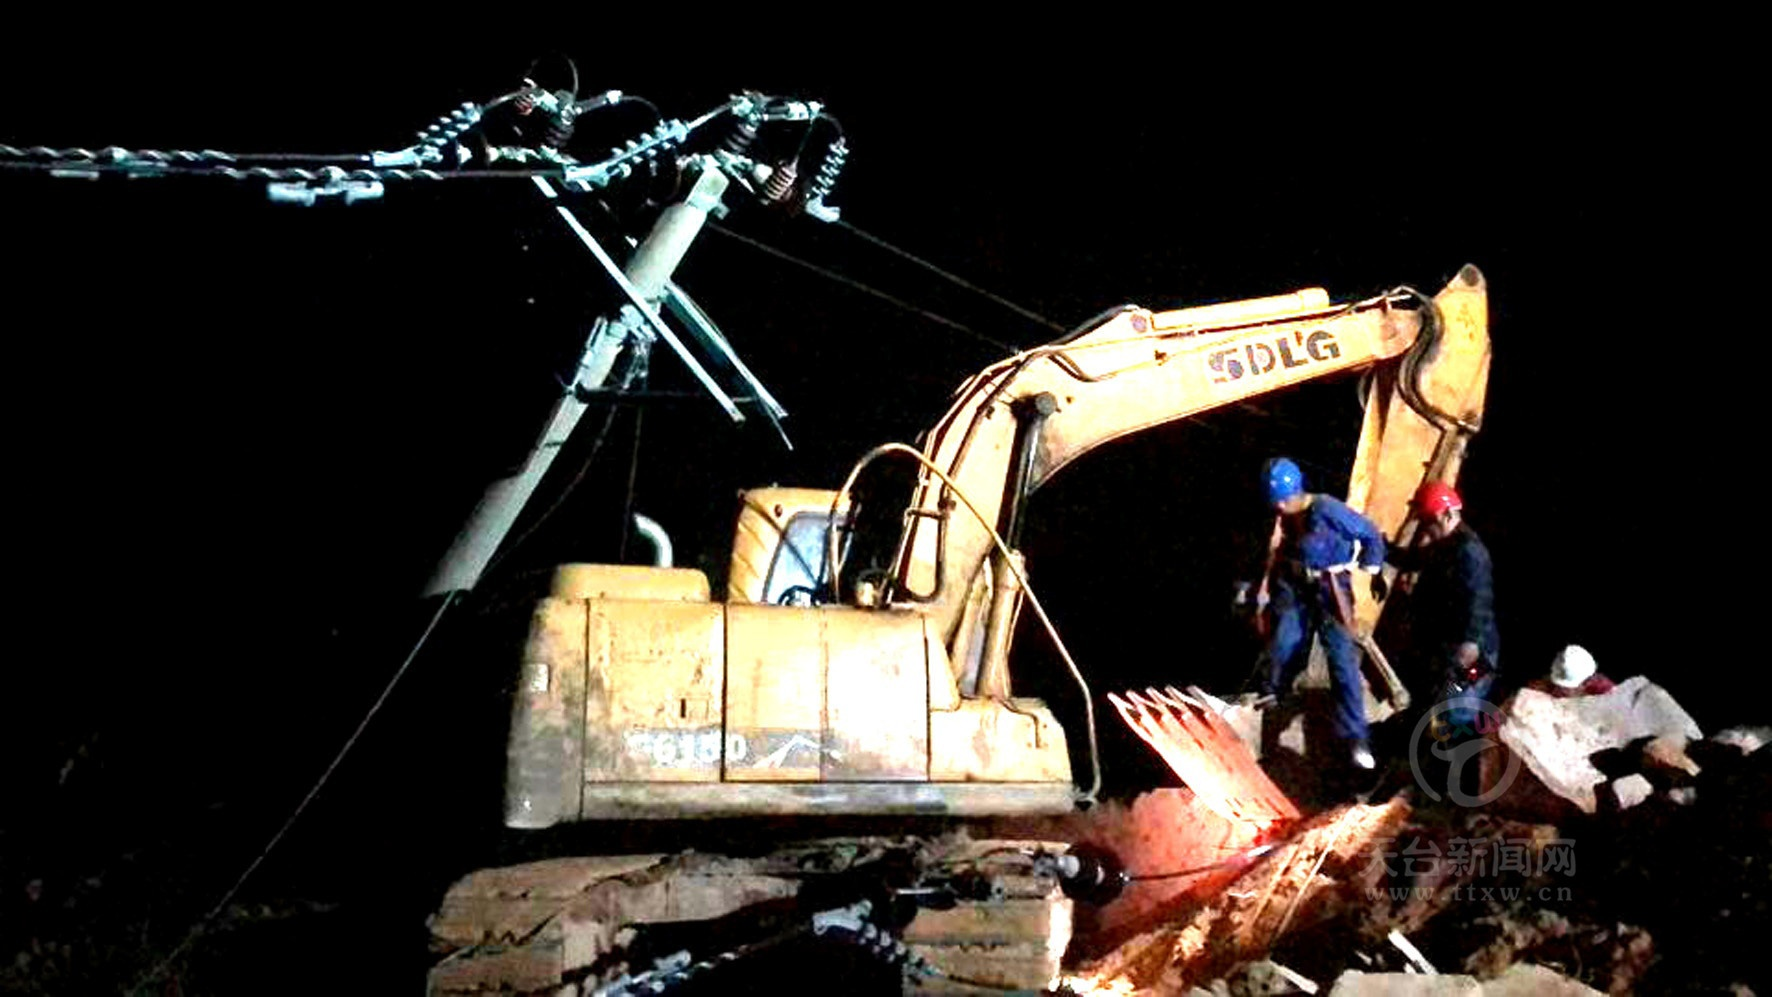blue: (1258, 450, 1307, 517)
red: (1411, 478, 1462, 539)
white: (1543, 642, 1596, 698)
